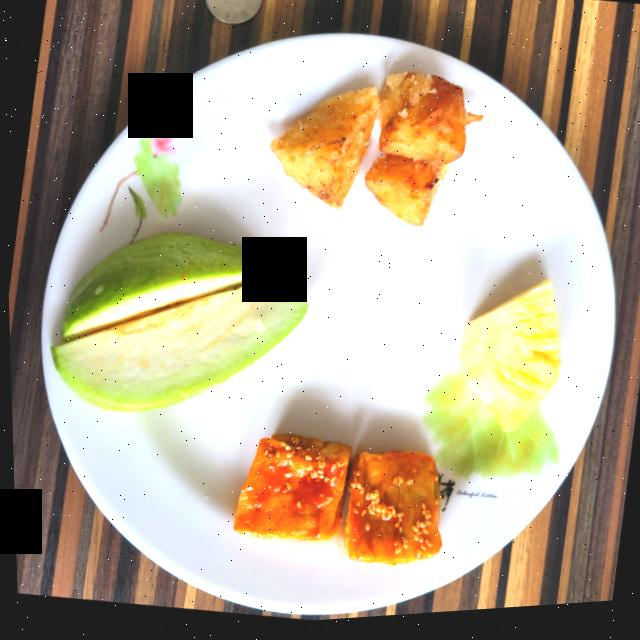coin: (205, 0, 262, 28)
creamy tofu: (231, 438, 438, 570)
fried potato: (270, 78, 481, 231)
guava -sliced-: (49, 235, 305, 413)
pineapple: (457, 287, 559, 439)
